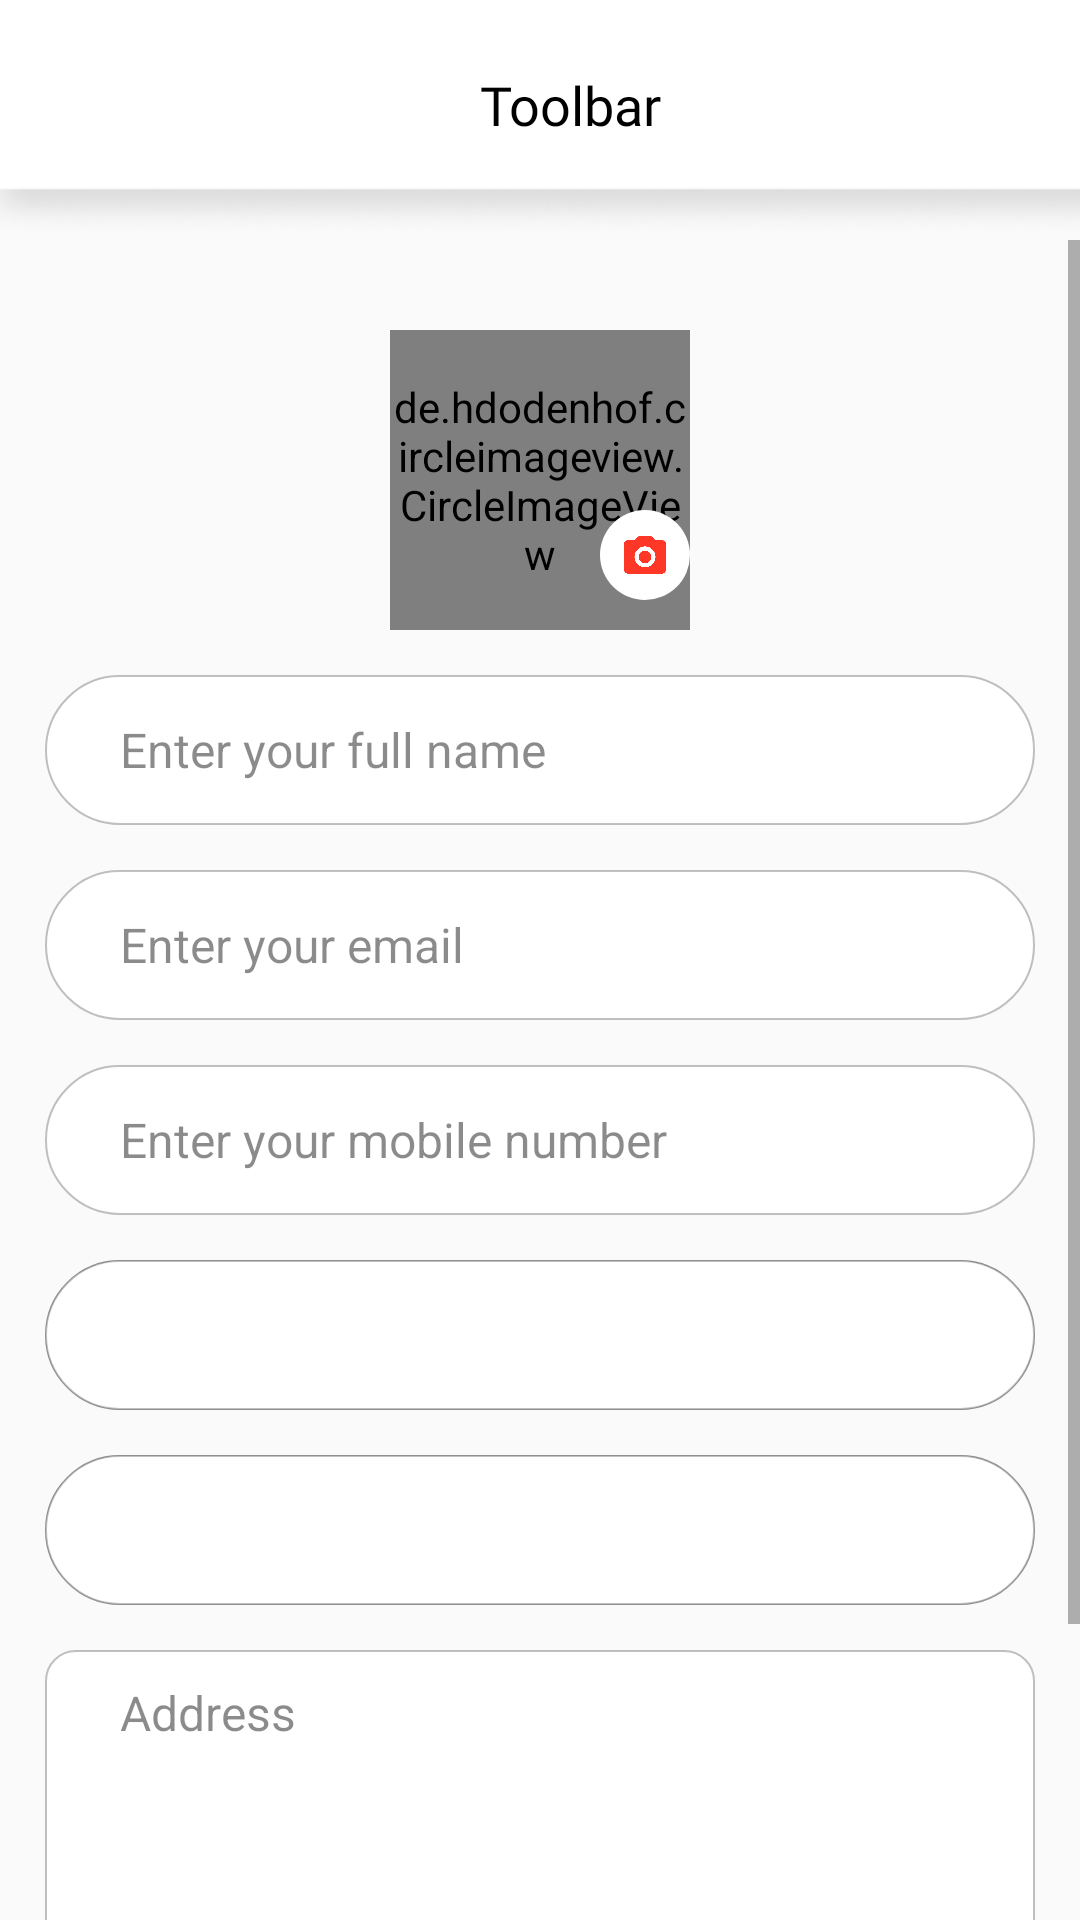

Named icons in this screenshot (1080 x 1920) and their centers, point (x, y):
camera: point (645, 555)
